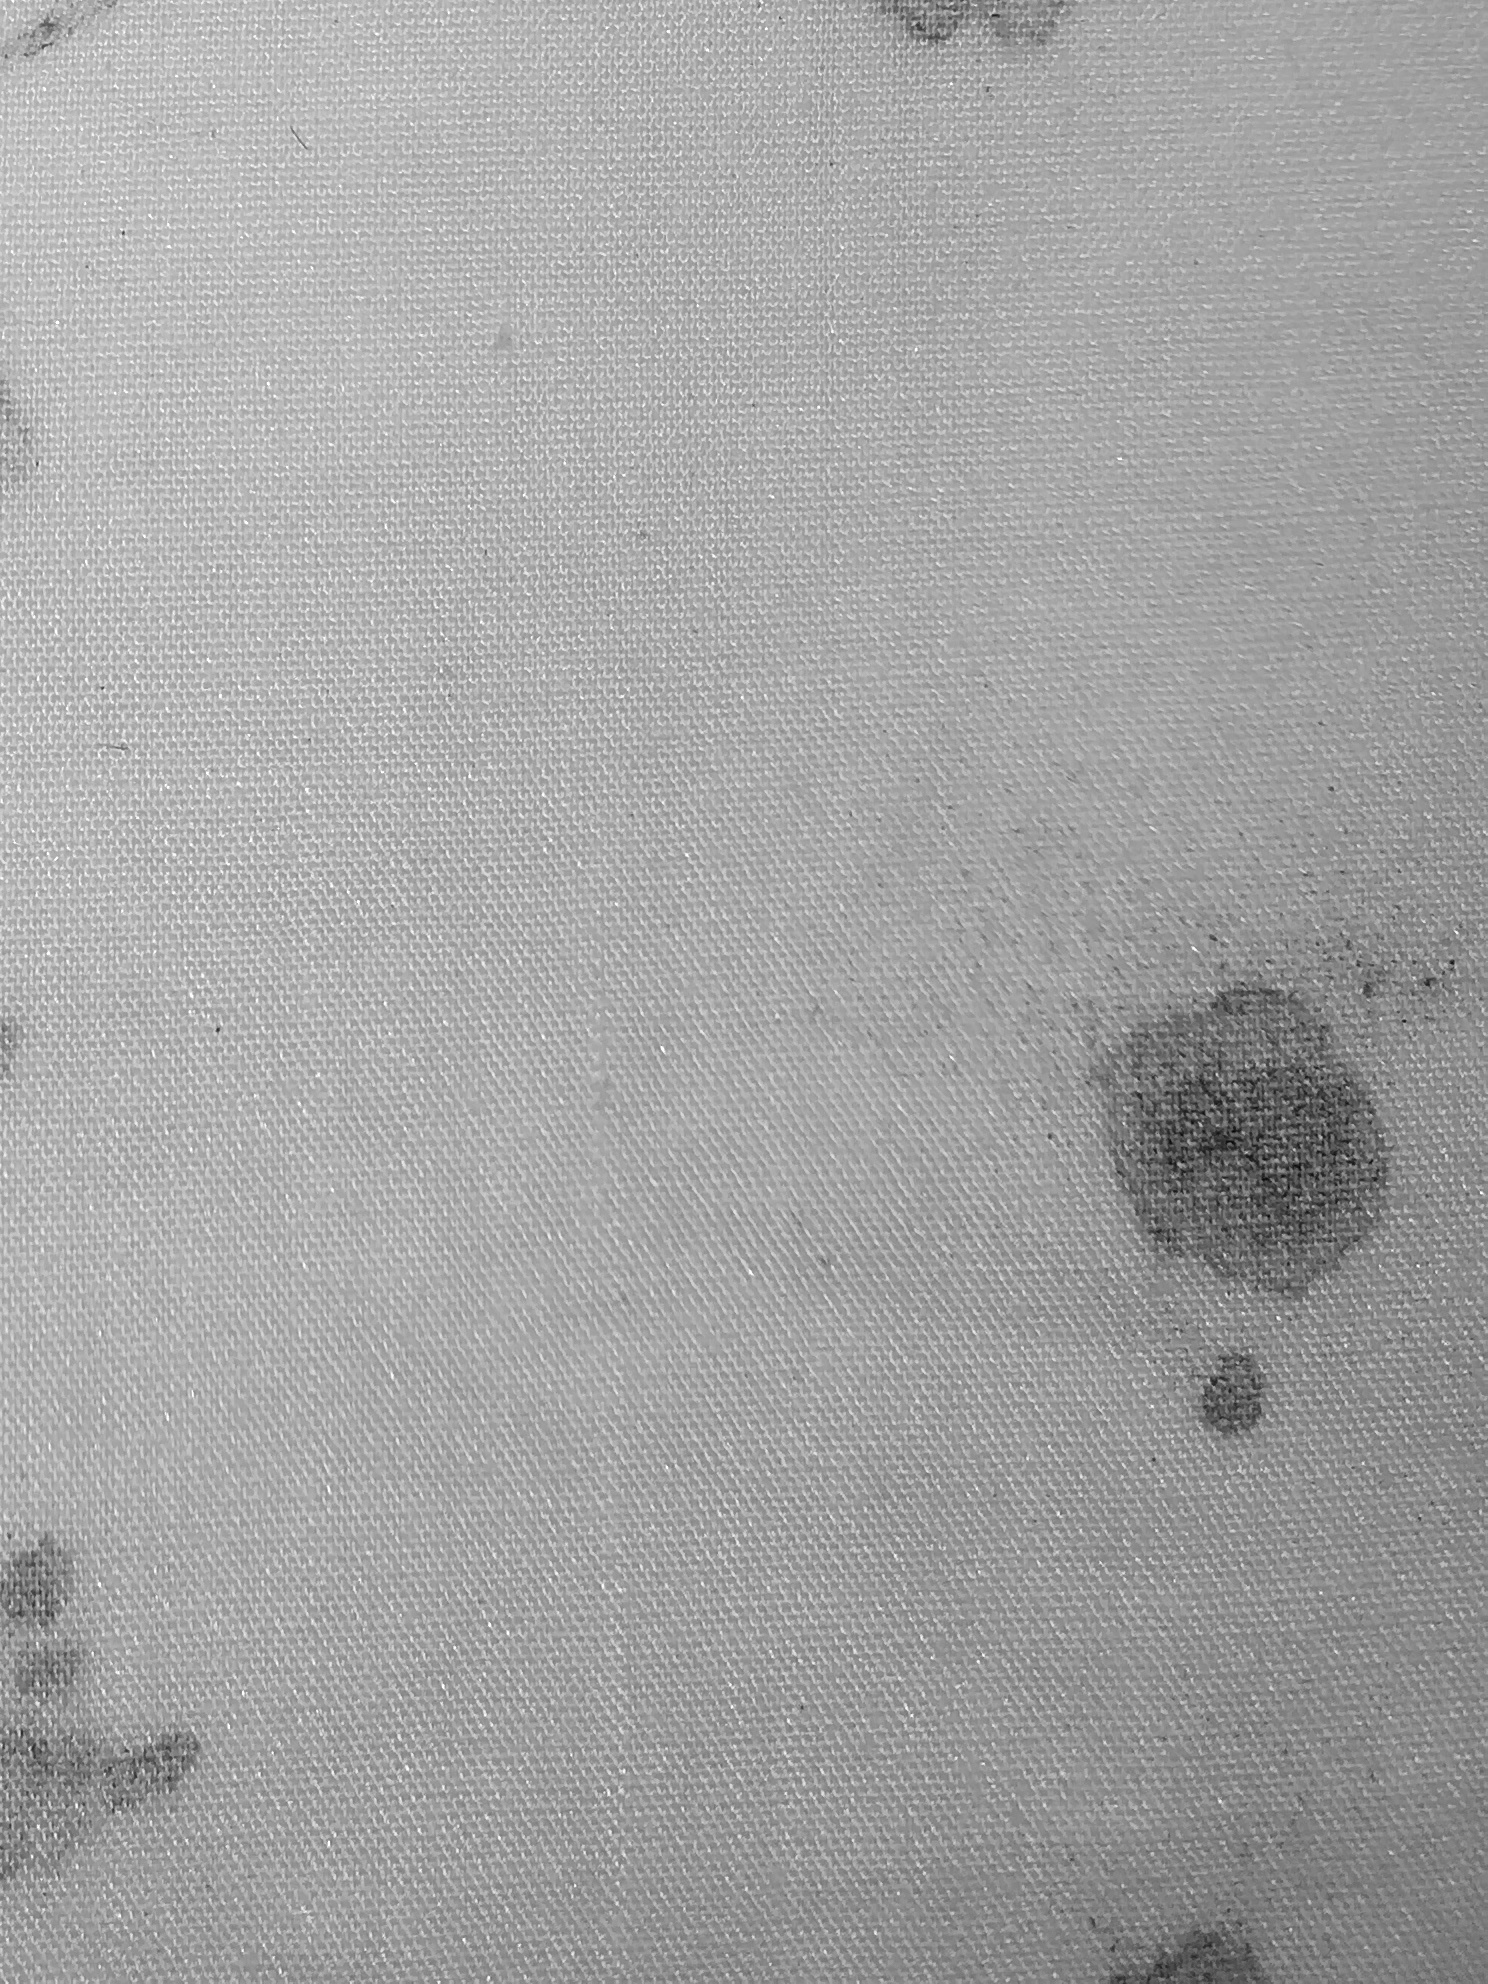Stain: (883, 769, 1488, 1568), (2, 1493, 272, 1911), (889, 1801, 1488, 1984), (728, 2, 1202, 72), (2, 2, 200, 87)
